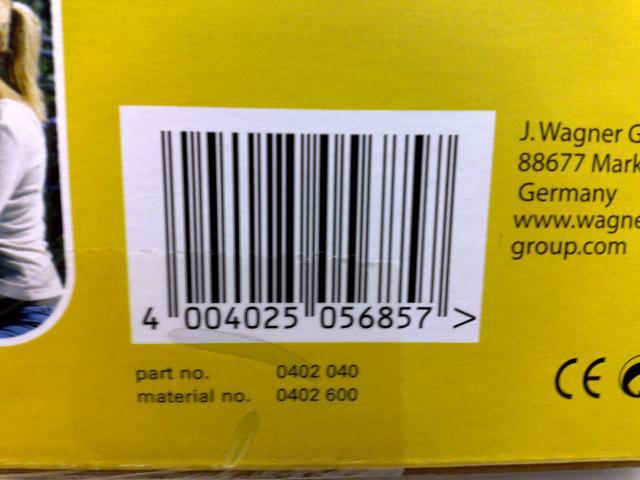Barkod: (156, 128, 458, 304)
